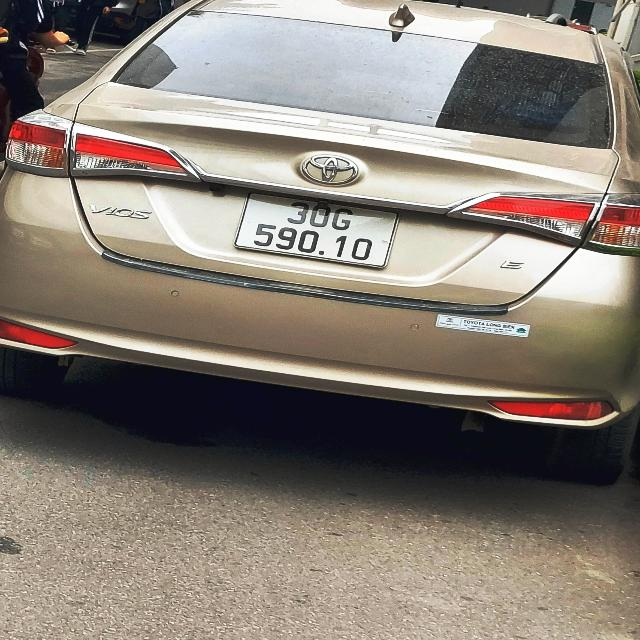license_plate: (239, 194, 400, 268)
